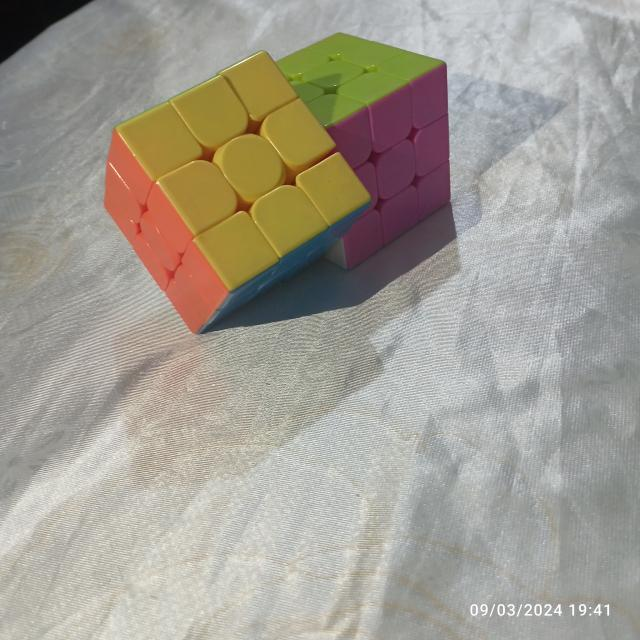Rub: (98, 48, 377, 343), (266, 26, 455, 270)
